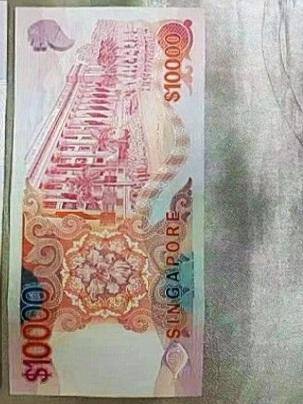10000SingaporeDollar: (17, 9, 201, 393)
